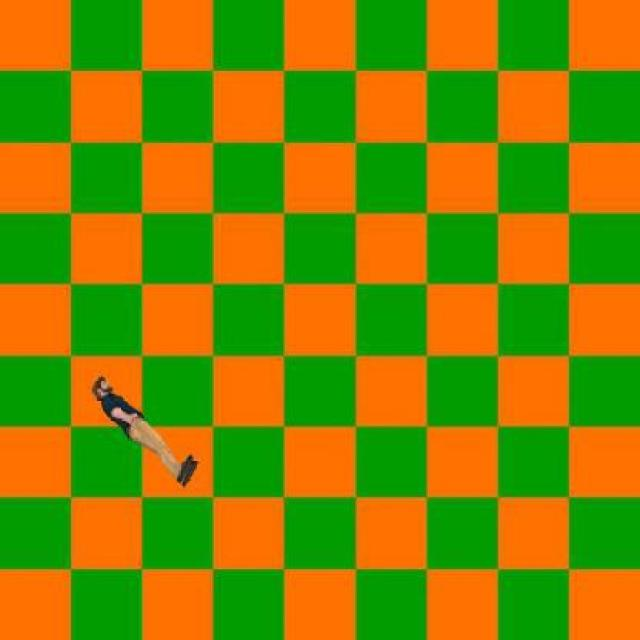Person: (90, 370, 199, 487)
